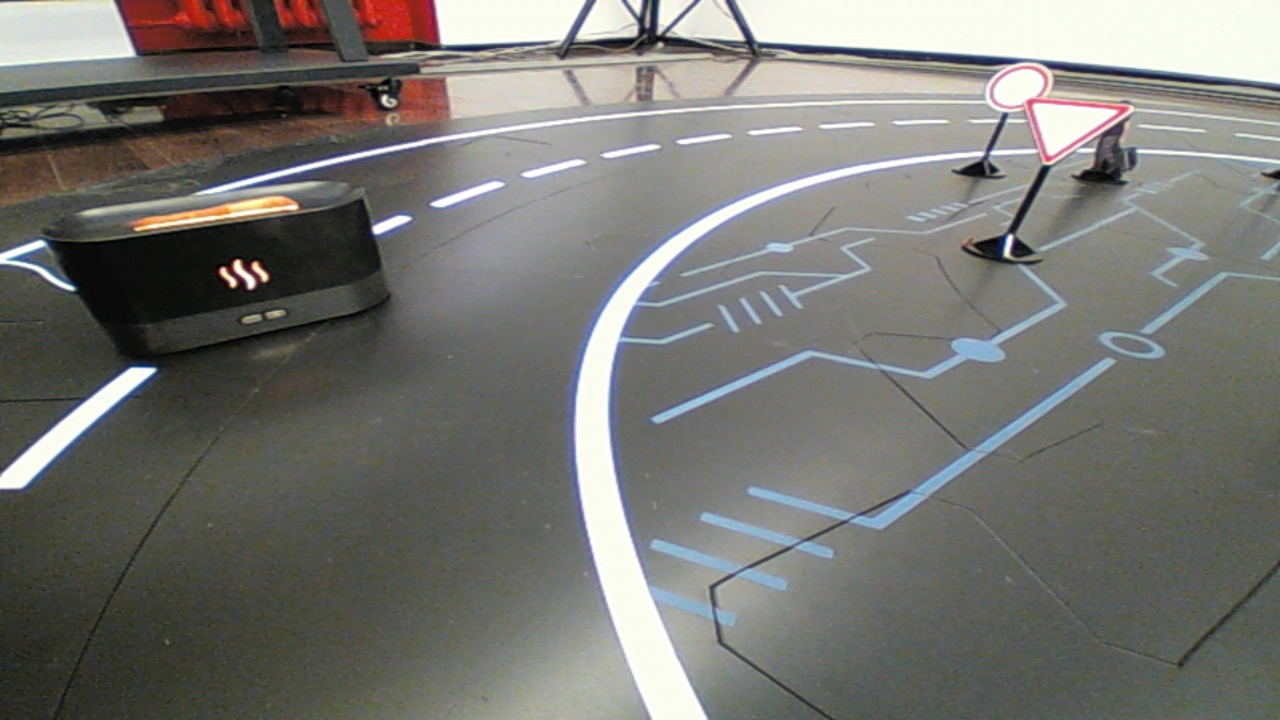Movement prohibition: (36, 169, 415, 374)
